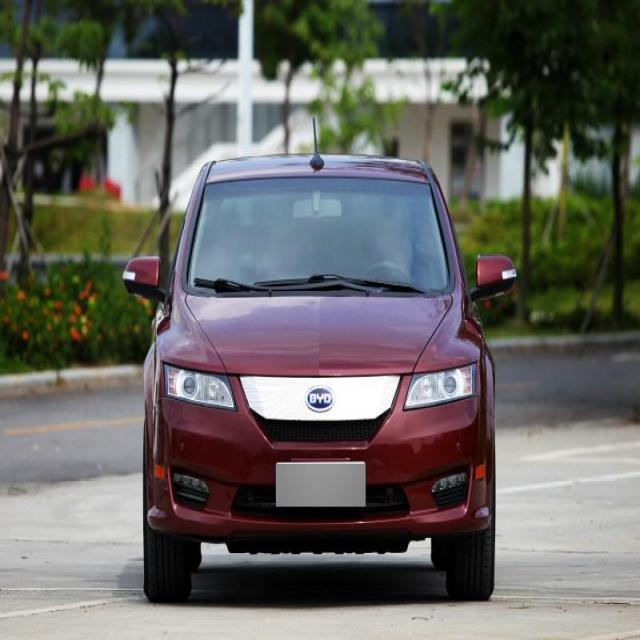front_glass: (147, 400, 498, 545), (183, 172, 451, 296)
front_left_side_light: (402, 358, 478, 415)
front_left_side_mirror: (470, 249, 519, 305)
front_right_side_light: (162, 358, 238, 413)
front_right_side_mirror: (122, 254, 164, 303)
